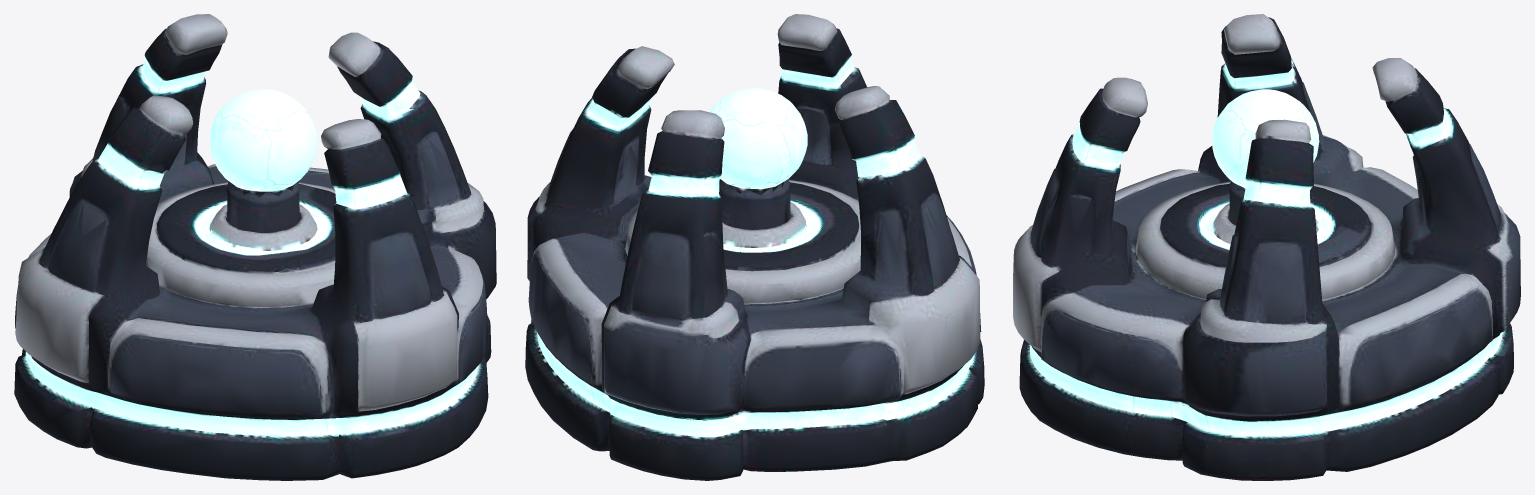
Rendered from warrior-3-tier-2.glb.
3 renders of one model, left to right at view 1: azimuth 30°, elevation 25°; view 2: azimuth 150°, elevation 25°; view 3: azimuth 270°, elevation 25°, orthographic.
Visible parts, largest first — view 1: fixed-platform, moving-assembly; view 2: fixed-platform, moving-assembly; view 3: fixed-platform, moving-assembly.
Part boxes in pixels (bbox=[...]): fixed-platform: bbox=[14, 108, 496, 480]; moving-assembly: bbox=[57, 14, 458, 276]; fixed-platform: bbox=[525, 108, 984, 480]; moving-assembly: bbox=[562, 14, 943, 277]; fixed-platform: bbox=[1013, 86, 1520, 480]; moving-assembly: bbox=[1044, 14, 1485, 281].
Size of the model in its own units: 0.865 by 0.6028 by 0.878.
1 material, 1 textured.
